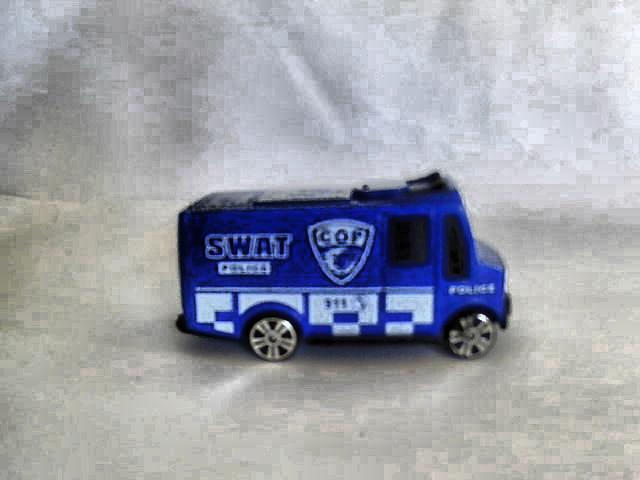police car: (171, 191, 516, 364)
